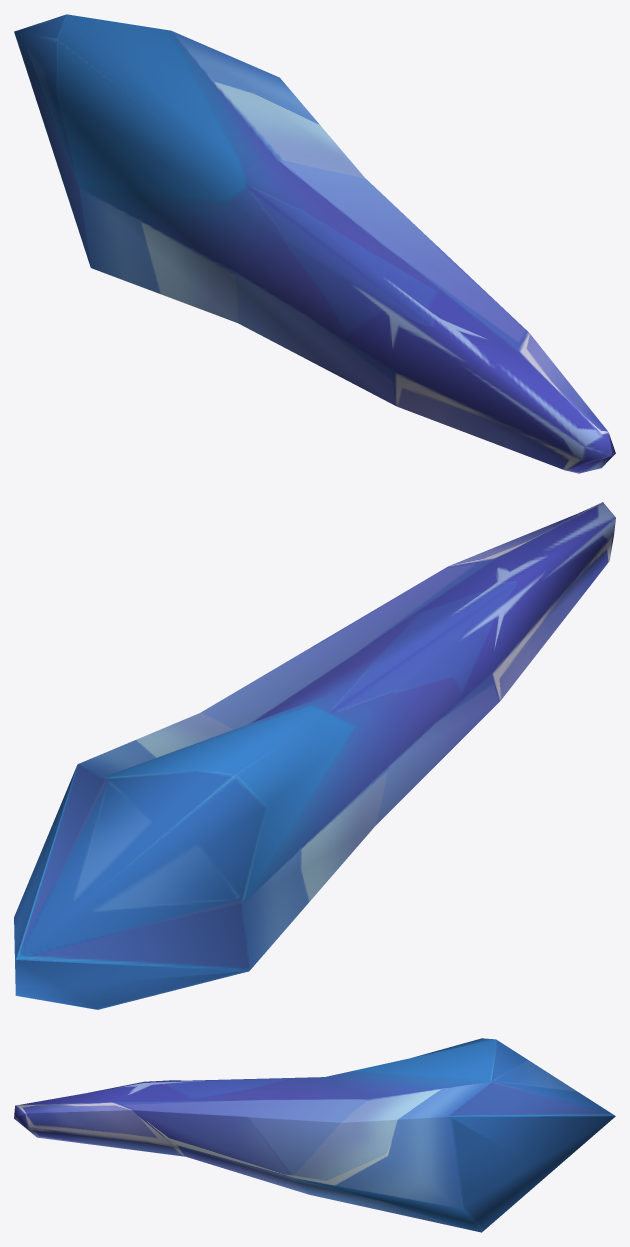
Rendered from DeepSea_Ice.fbx.
3 views of the same model, one above another, from view 1: azimuth 30°, elevation 25°; view 2: azimuth 150°, elevation 25°; view 3: azimuth 270°, elevation 25° (orthographic). The views are drawn at different scales.
Visible parts, largest first — view 1: Eff_Model_Monster_DeepSea_Ice_01; view 2: Eff_Model_Monster_DeepSea_Ice_01; view 3: Eff_Model_Monster_DeepSea_Ice_01.
Part boxes in pixels (x1,y1,x2,y2): Eff_Model_Monster_DeepSea_Ice_01: (14,14,615,473); Eff_Model_Monster_DeepSea_Ice_01: (14,502,615,1009); Eff_Model_Monster_DeepSea_Ice_01: (14,1038,615,1232).
Size of the model in its own units: 8.66 by 9.1 by 34.37.
1 material, 1 textured.
